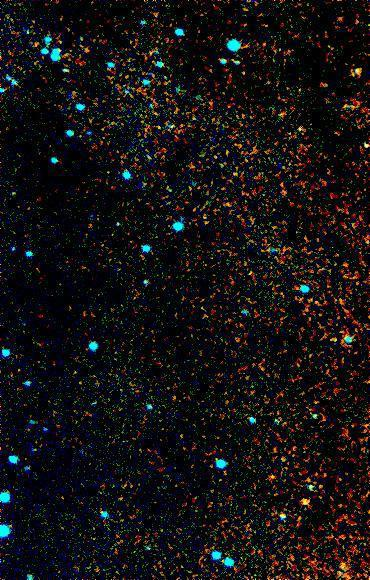star: (287, 479, 317, 509)
